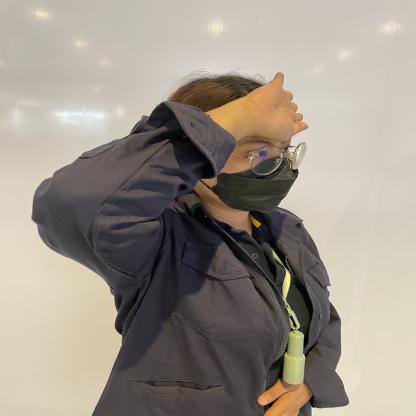Sick: (188, 61, 330, 157)
